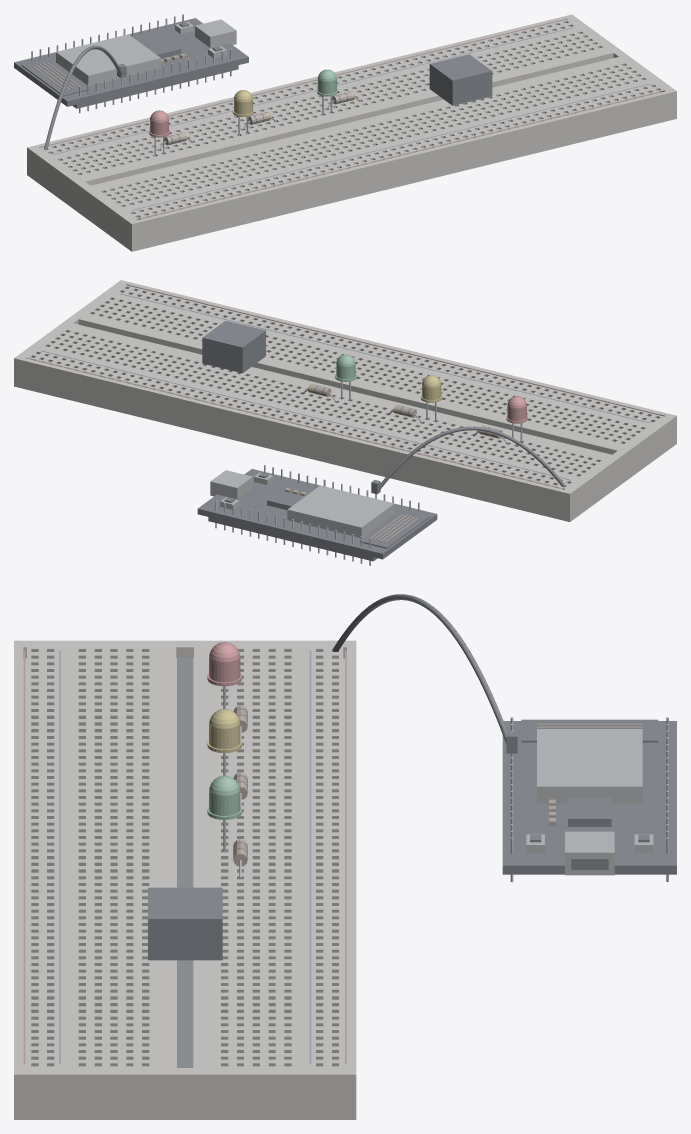
The model's file is step-10.glb.
3 views of the same model, one above another, from view 1: azimuth 30°, elevation 25°; view 2: azimuth 150°, elevation 25°; view 3: azimuth 270°, elevation 25° (orthographic). The views are drawn at different scales.
Parts seen in each view (by area): view 1: breadboard__mesh, uno__mesh, button__mesh, wire_ground__mesh, led_green__mesh, led_yellow__mesh, led_red__mesh; view 2: breadboard__mesh, uno__mesh, button__mesh, wire_ground__mesh, led_red__mesh, led_yellow__mesh, led_green__mesh; view 3: breadboard__mesh, uno__mesh, button__mesh, wire_ground__mesh, led_green__mesh, led_yellow__mesh, led_red__mesh.
Part boxes in pixels (bbox=[...]): breadboard__mesh: bbox=[27, 14, 676, 251]; uno__mesh: bbox=[14, 14, 248, 113]; button__mesh: bbox=[429, 54, 492, 105]; wire_ground__mesh: bbox=[44, 45, 126, 149]; led_green__mesh: bbox=[316, 69, 337, 114]; led_yellow__mesh: bbox=[232, 90, 253, 135]; led_red__mesh: bbox=[148, 110, 170, 155]; breadboard__mesh: bbox=[14, 280, 676, 521]; uno__mesh: bbox=[197, 465, 437, 565]; button__mesh: bbox=[202, 320, 265, 373]; wire_ground__mesh: bbox=[371, 426, 565, 494]; led_red__mesh: bbox=[506, 396, 527, 442]; led_yellow__mesh: bbox=[420, 375, 442, 421]; led_green__mesh: bbox=[335, 354, 356, 400]; breadboard__mesh: bbox=[14, 640, 356, 1119]; uno__mesh: bbox=[502, 717, 676, 882]; button__mesh: bbox=[148, 887, 222, 960]; wire_ground__mesh: bbox=[332, 594, 517, 753]; led_green__mesh: bbox=[207, 775, 241, 851]; led_yellow__mesh: bbox=[207, 709, 241, 775]; led_red__mesh: bbox=[207, 642, 241, 708].
Bounding box in the file's own units: 0.165 × 0.026 × 0.1065.
